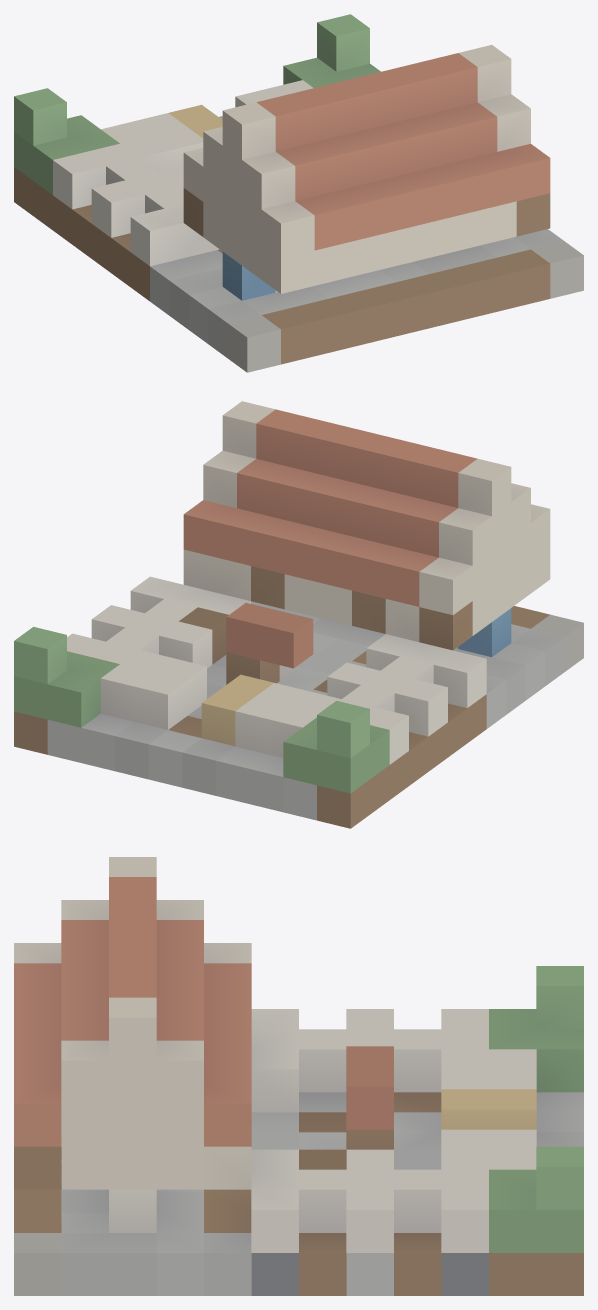
The model's file is market.l2.lite.glb.
3 views of the same model, one above another, from view 1: azimuth 30°, elevation 25°; view 2: azimuth 150°, elevation 25°; view 3: azimuth 270°, elevation 25° (orthographic). The views are drawn at different scales.
Parts seen in each view (by area): view 1: market; view 2: market; view 3: market.
Boxes of the visible parts, left/top/right/bottom form: market: left=14, top=14, right=583, bottom=372; market: left=14, top=401, right=583, bottom=828; market: left=14, top=857, right=583, bottom=1295.
Bounding box in the file's own units: 5 × 3 × 6.
